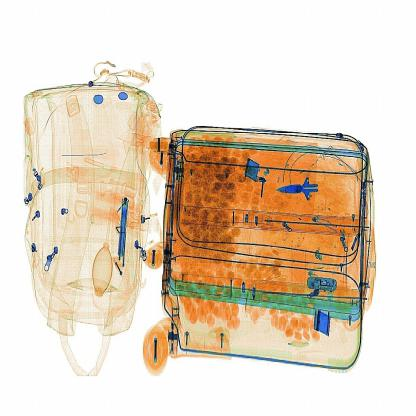gun: (274, 156, 337, 218)
